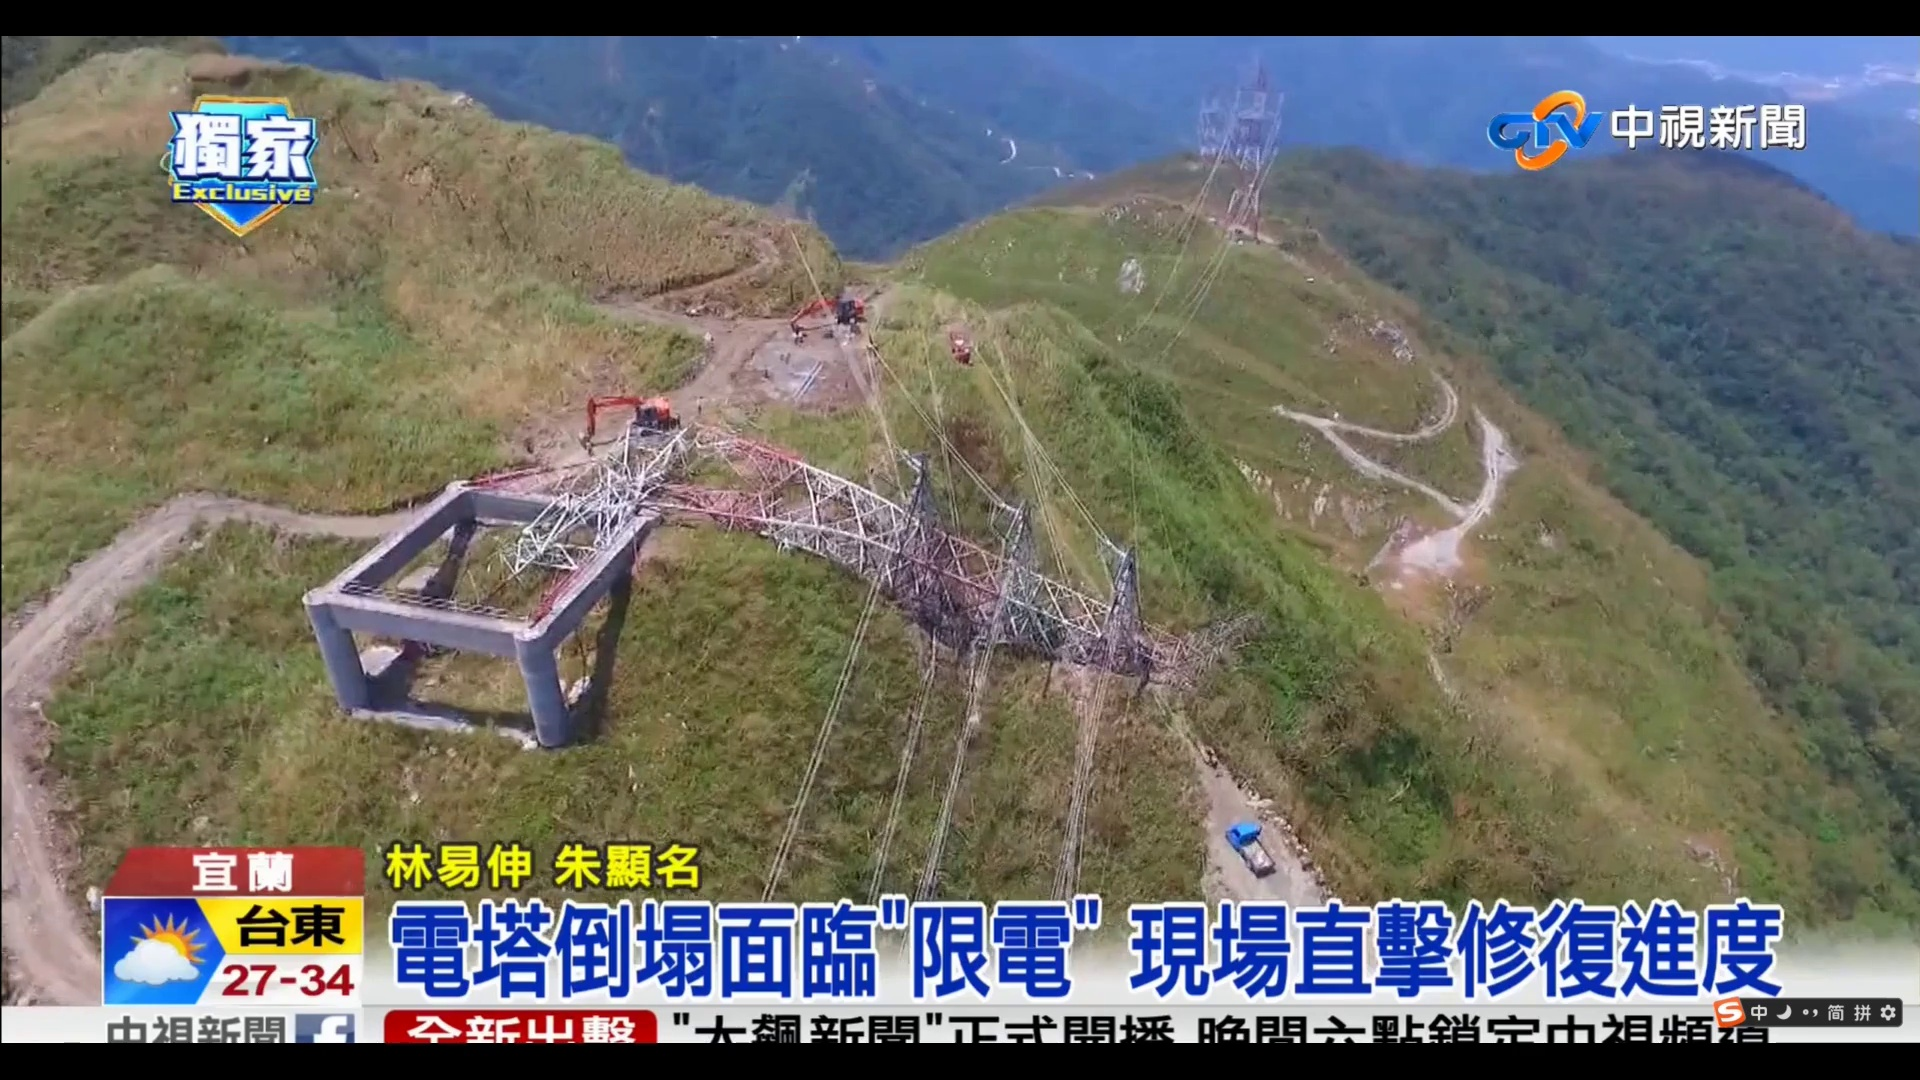tower_down: (607, 394, 1179, 658)
